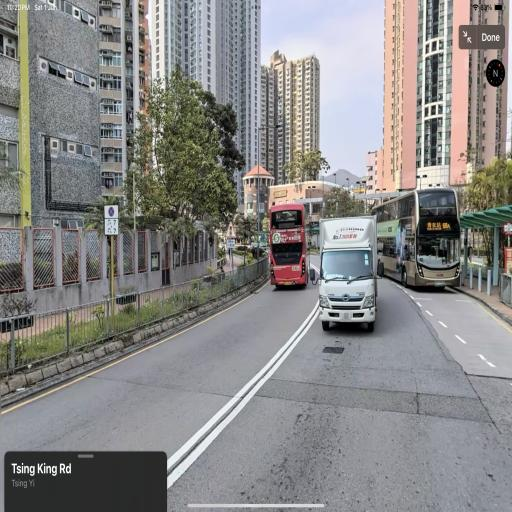Roads: (26, 208, 505, 507)
Trees: (114, 66, 240, 250)
